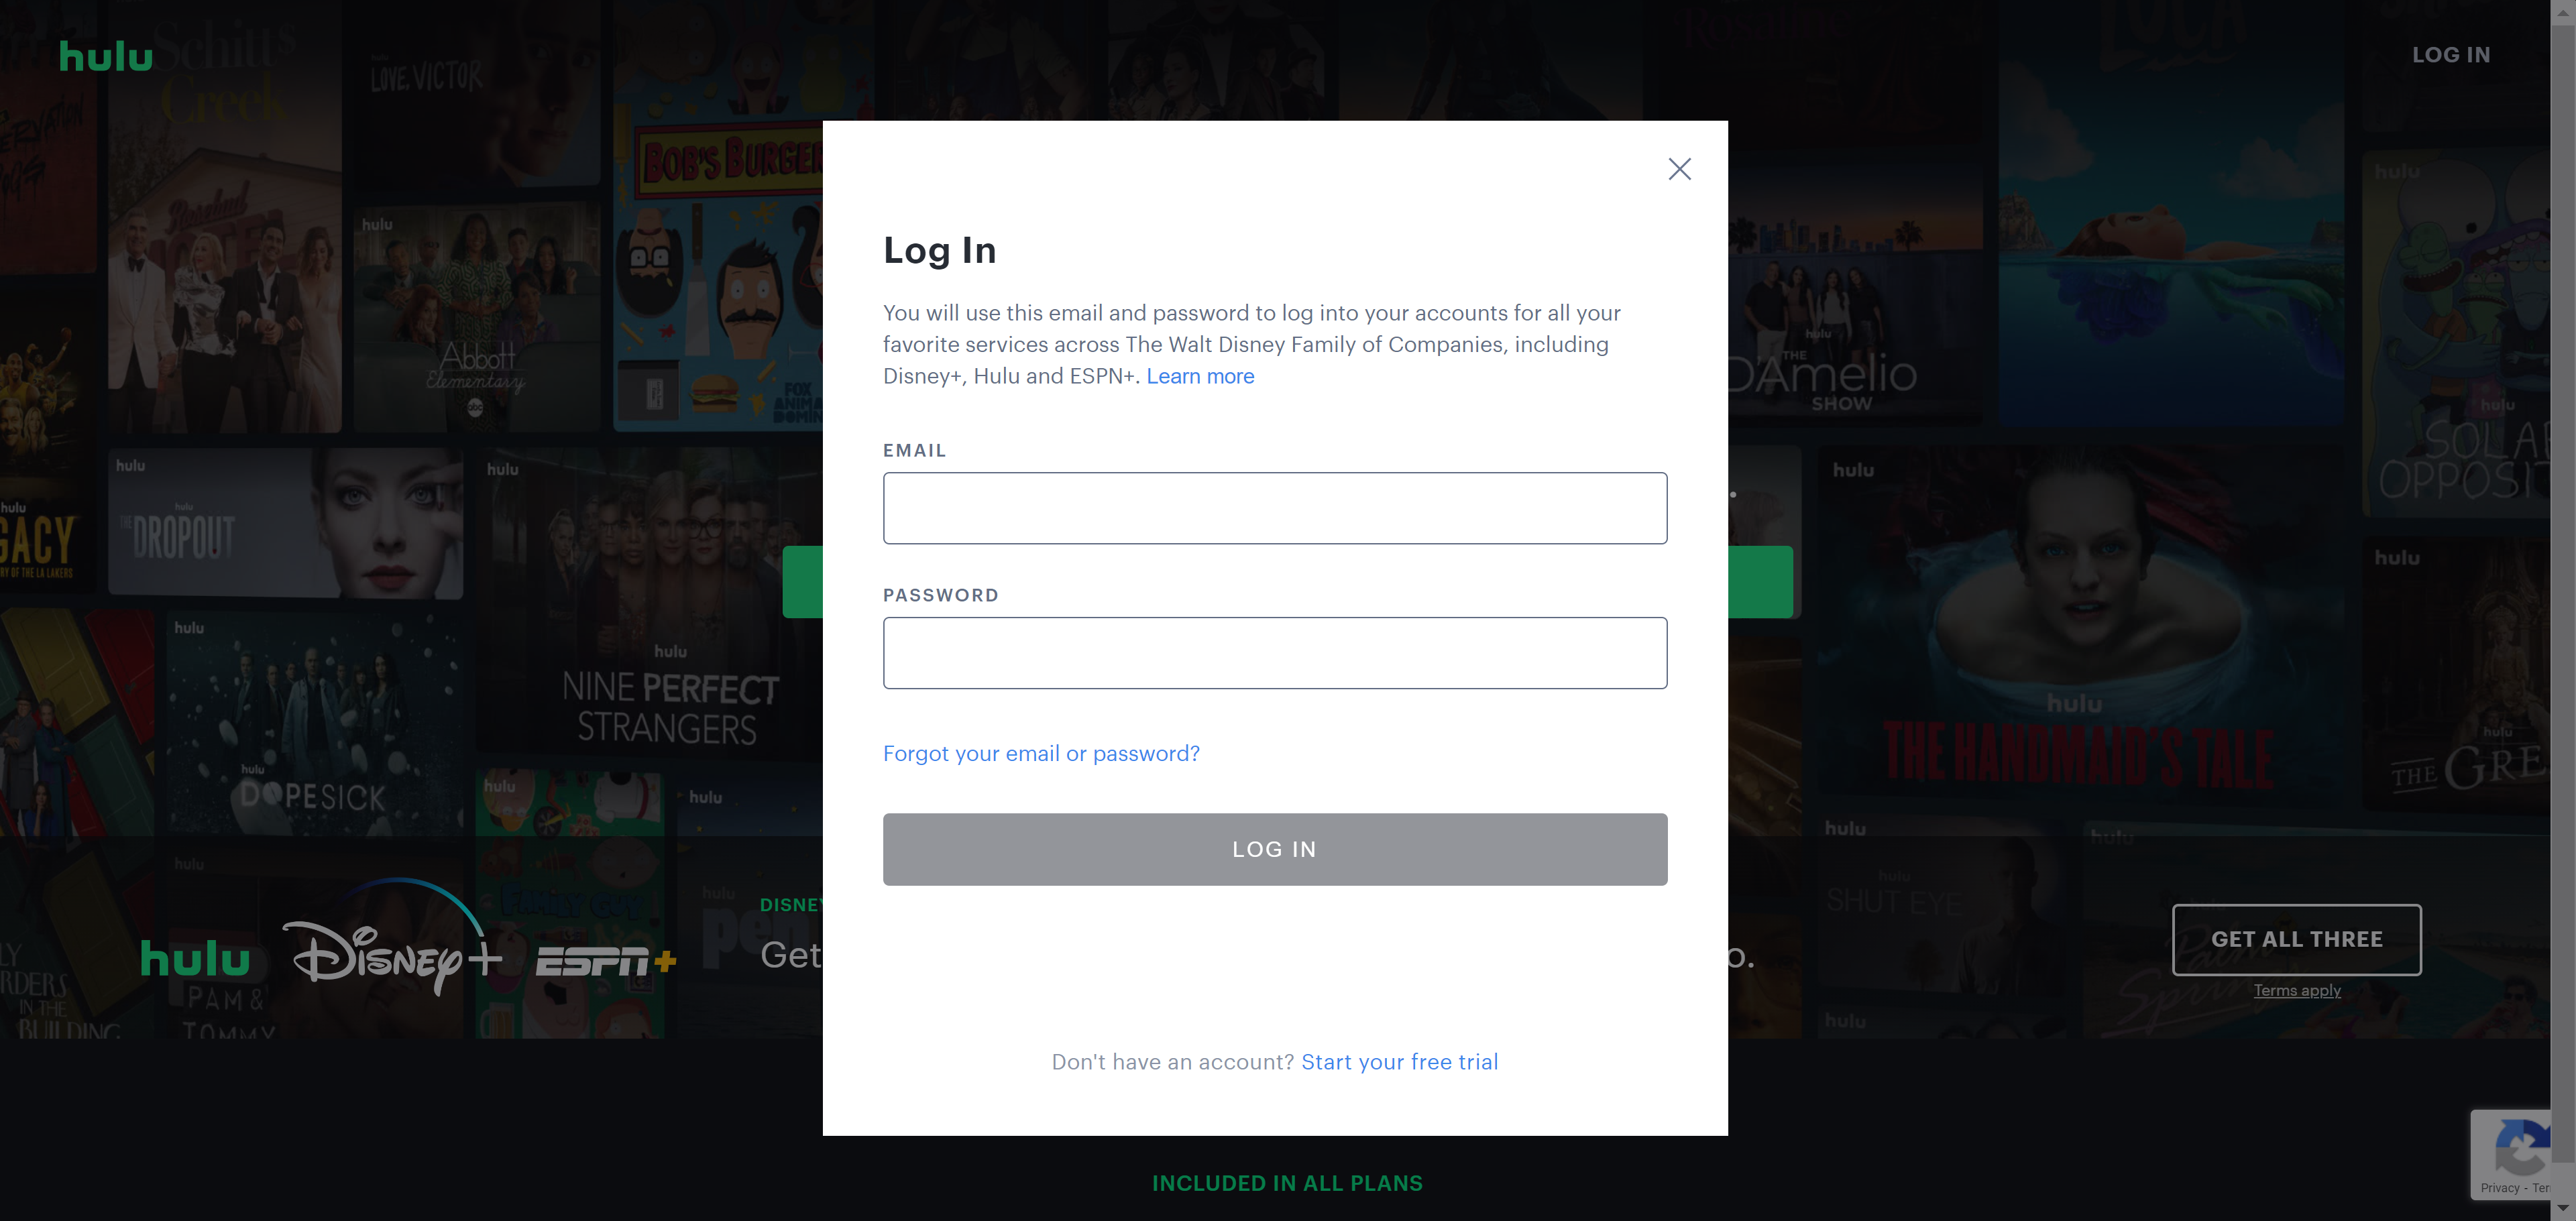login_button: (884, 813, 1669, 886)
login_form: (876, 435, 1674, 892)
